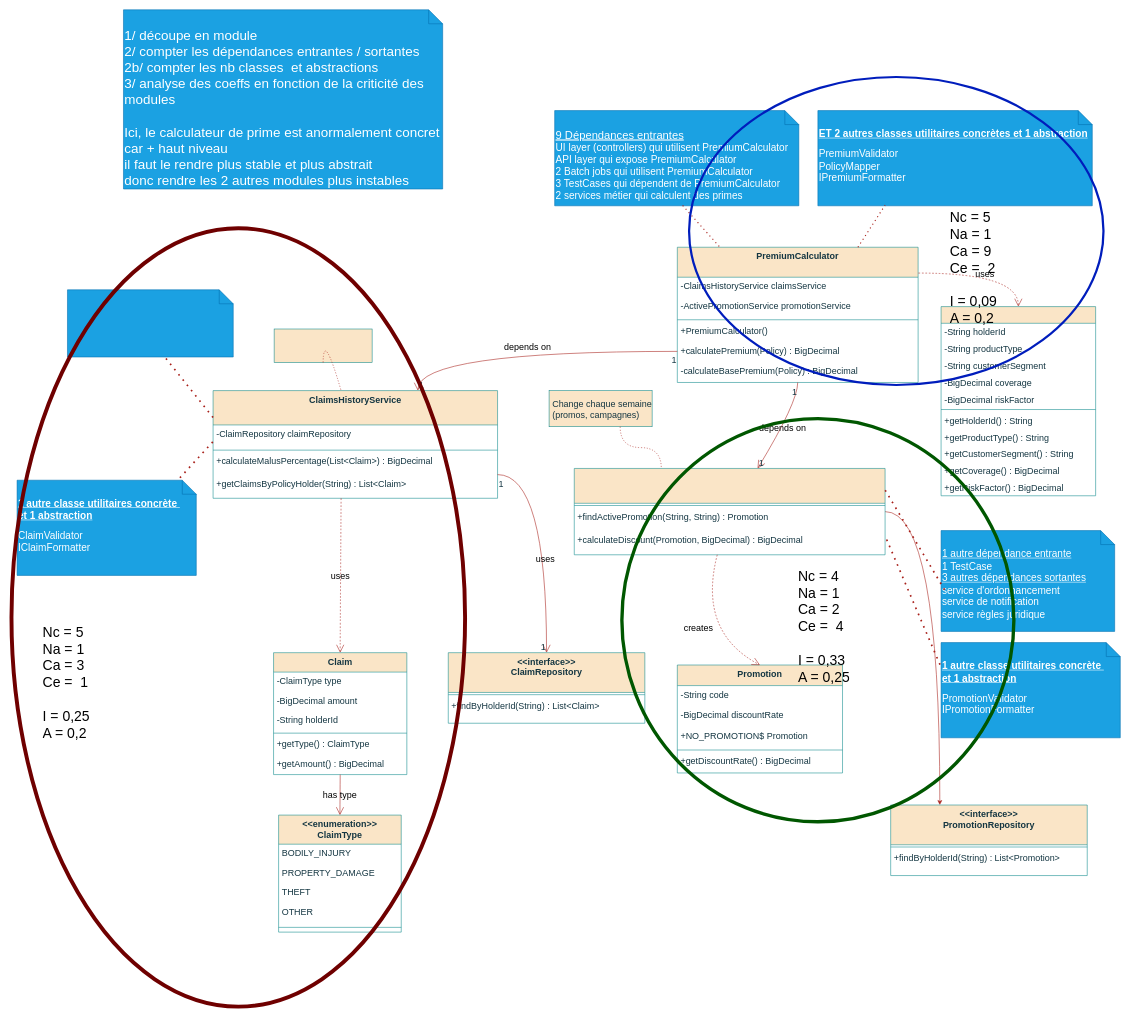
The diagram is 1130 pixels wide and 1018 high, and some of its shapes have lost their labels. The shapes that lost their labels are listed below. From the top down, each one's box as (x1, y1, x2, y2) in pixels, then its label:
(67, 289, 233, 357): 2 autres dépendances entrantes 1 TestCase 1 Service de Report
(274, 328, 372, 363): Change tous les 3 mois (nouvelles lois, règles)
(941, 306, 1096, 496): Policy
(574, 468, 885, 555): ActivePromotionService
